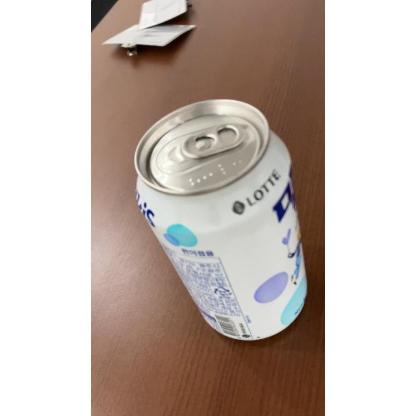Can: (133, 98, 309, 344)
